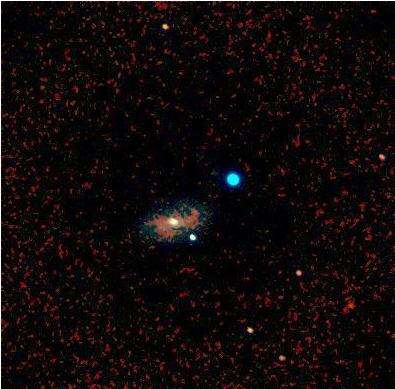star: (336, 294, 366, 324)
